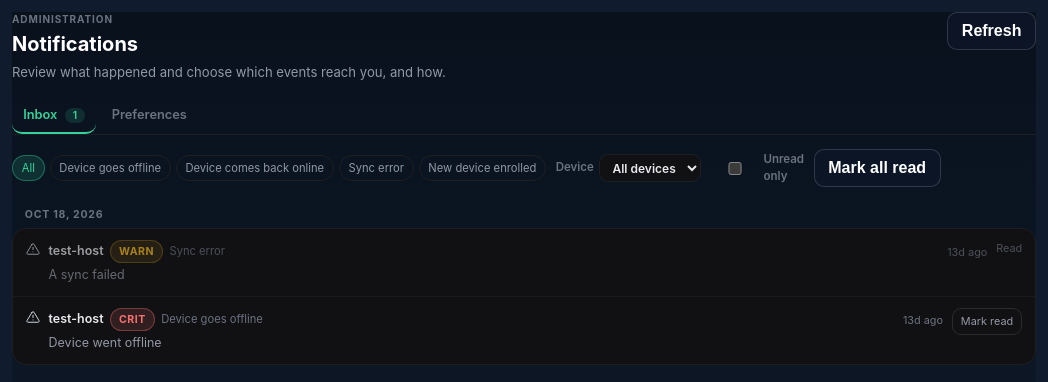
Scenario: Notifications center › shows the inbox and filters read notifications
Check: the text "Device went offline" is shown, box x1=49 y1=335 x2=162 y2=350
Check: the text "A sync failed" is shown, box x1=49 y1=267 x2=125 y2=282
Click the checkbox labelled "Unread only": point(735, 168) x1=715 y1=162 x2=755 y2=174
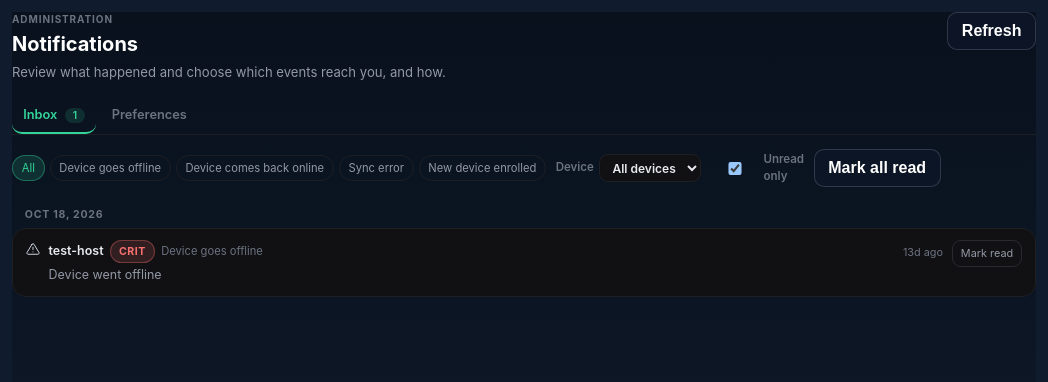
Check: the text "Device went offline" is shown, box x1=49 y1=267 x2=162 y2=282
Check: the text "A sync failed" is gone
